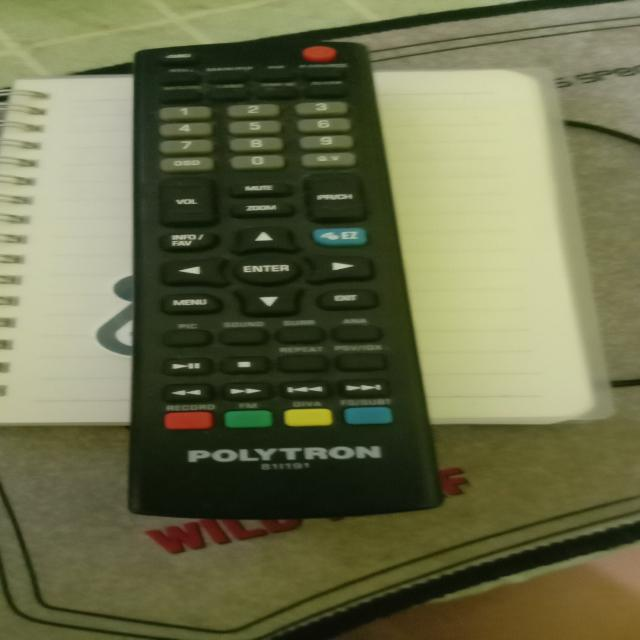remote: (89, 43, 443, 523)
